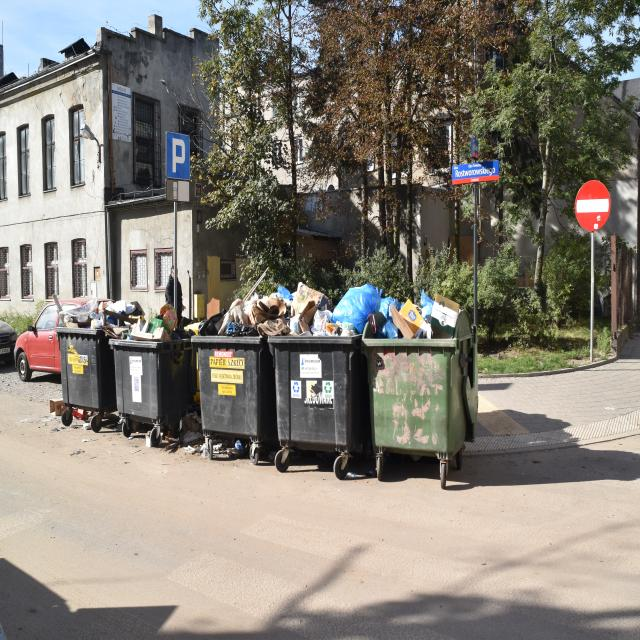lixo domiciliar: (280, 275, 390, 350), (198, 281, 317, 334), (378, 288, 460, 338), (118, 300, 193, 340), (54, 295, 134, 331), (178, 408, 204, 451), (214, 436, 249, 461), (72, 400, 95, 430), (48, 398, 66, 418)
